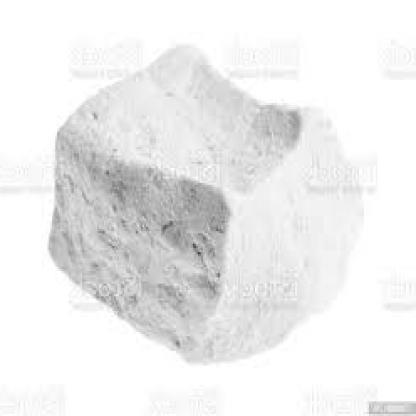Sedimentary_Chalk: (34, 40, 364, 374)
